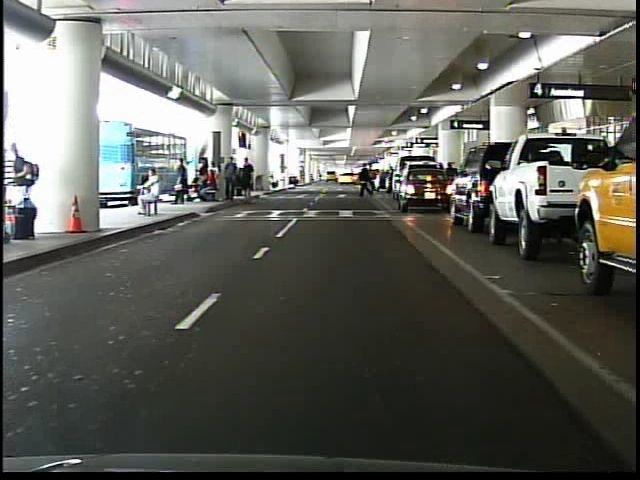person: (130, 167, 165, 220), (170, 156, 190, 209), (357, 159, 376, 203), (360, 160, 376, 197)
